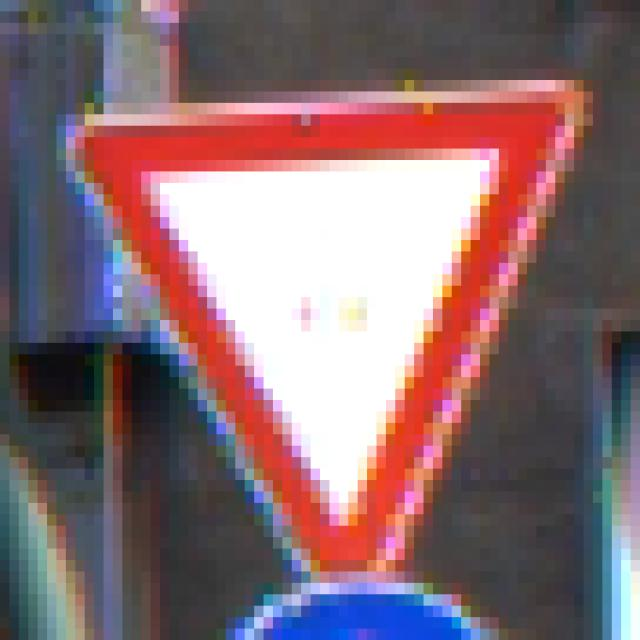Give Way: (58, 58, 585, 584)
